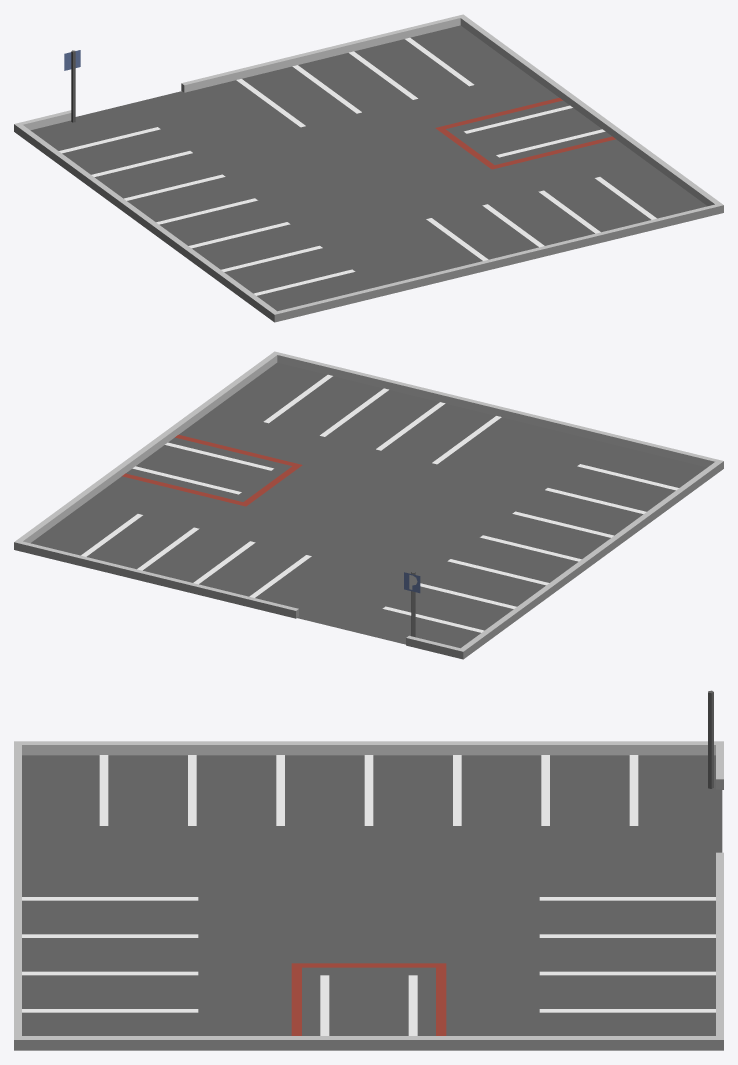
Rendered from parking_tile_2x2_001.fbx.
3 views of the same model, one above another, from view 1: azimuth 30°, elevation 25°; view 2: azimuth 150°, elevation 25°; view 3: azimuth 270°, elevation 25° (orthographic). The views are drawn at different scales.
Visible parts, largest first — view 1: parking_tile_2x2_001; view 2: parking_tile_2x2_001; view 3: parking_tile_2x2_001.
Part boxes in pixels (x1,y1,x2,y2): parking_tile_2x2_001: (14, 14, 723, 322); parking_tile_2x2_001: (14, 351, 723, 659); parking_tile_2x2_001: (14, 690, 723, 1050).
Size of the model in its own units: 1600 by 247 by 1607.
